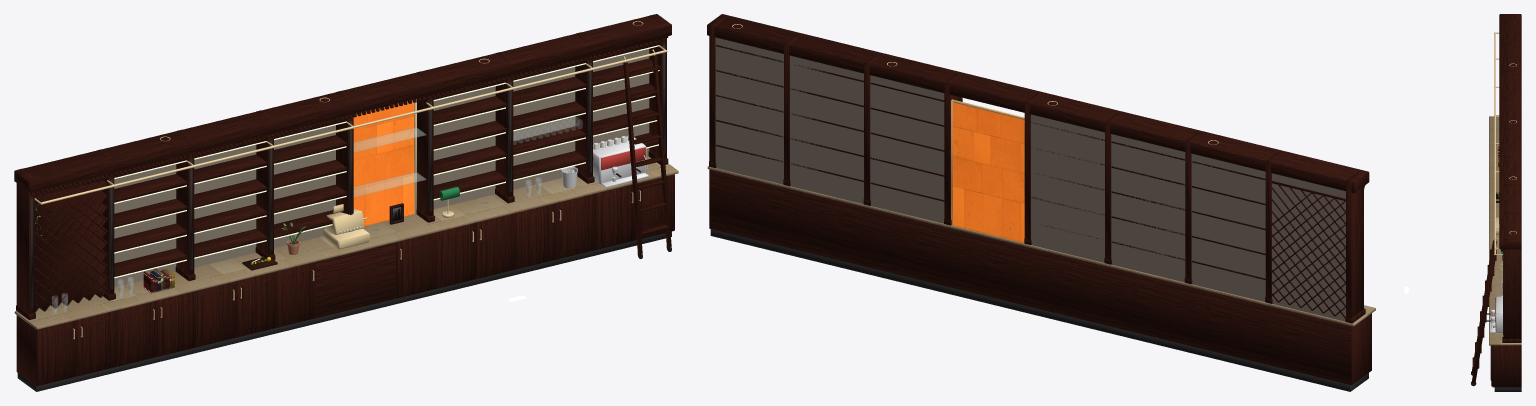
Rendered from back_bar_tall.glb.
3 renders of one model, left to right at view 1: azimuth 30°, elevation 25°; view 2: azimuth 150°, elevation 25°; view 3: azimuth 270°, elevation 25°, orthographic. The views are drawn at different scales.
Visible parts, largest first — view 1: Back bar wood, Smoked mirror, Marble top, Kick plate, Onyx, Brass, LED strip, Ladder wood, Glassware, Shelf glass, Chrome, Book spines; view 2: Back bar wood, Smoked mirror, Onyx, Kick plate, Marble top, Brass; view 3: Back bar wood, Marble top, Ladder wood, Brass, Chrome, Kick plate.
Part boxes in pixels (x1,y1,x2,y2): Back bar wood: (14,14,674,386); Smoked mirror: (114,49,649,286); Marble top: (14,157,678,329); Kick plate: (17,44,671,391); Onyx: (353,100,414,226); Brass: (34,21,667,339); LED strip: (114,45,659,278); Ladder wood: (623,55,671,255); Glassware: (52,116,582,313); Shelf glass: (354,127,426,197); Chrome: (593,136,648,187); Book spines: (143,268,174,293); Back bar wood: (707,14,1371,385); Smoked mirror: (715,37,1345,321); Onyx: (951,100,1024,242); Kick plate: (710,229,1368,391); Marble top: (707,166,1375,326); Brass: (732,24,1364,225); Back bar wood: (1490,14,1521,387); Marble top: (1489,116,1521,345); Ladder wood: (1471,240,1496,383); Brass: (1489,32,1516,345); Chrome: (1490,296,1502,333); Kick plate: (1494,252,1521,391).
Bounding box in the file's own units: 9.78 × 3.04 × 2.12.
29 materials, 9 textured.
